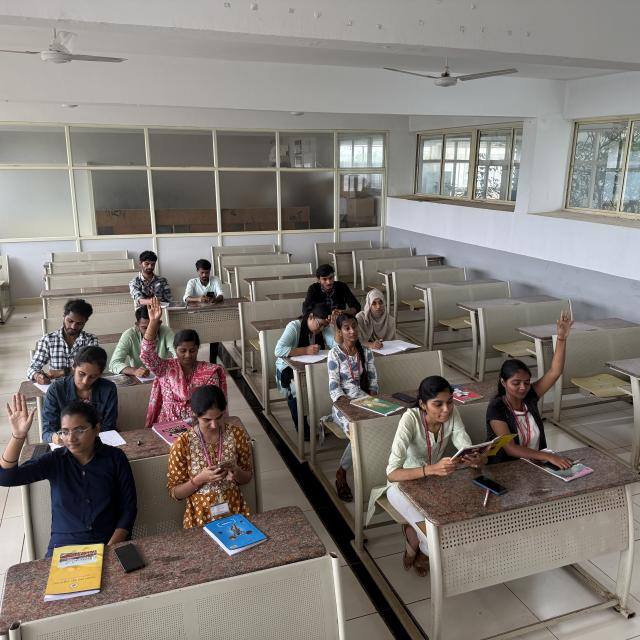Hand Rising: (0, 389, 131, 540), (142, 295, 223, 408)
Reading: (496, 311, 576, 443), (410, 373, 505, 466)
Using Phone: (183, 258, 223, 302)
Writing: (40, 344, 120, 444), (29, 295, 99, 393), (274, 302, 336, 362), (354, 289, 410, 353), (126, 250, 172, 307)
